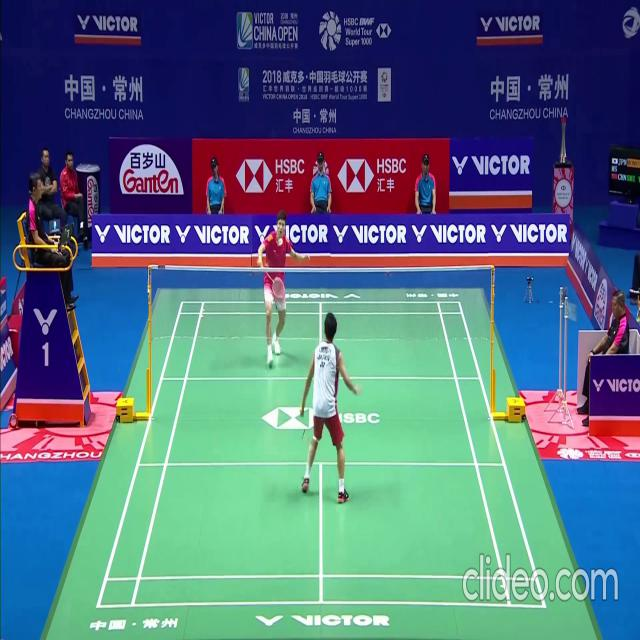Shuttlecock: (278, 236, 282, 244)
